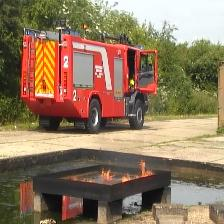fire: (122, 161, 156, 183), (101, 169, 115, 180)
